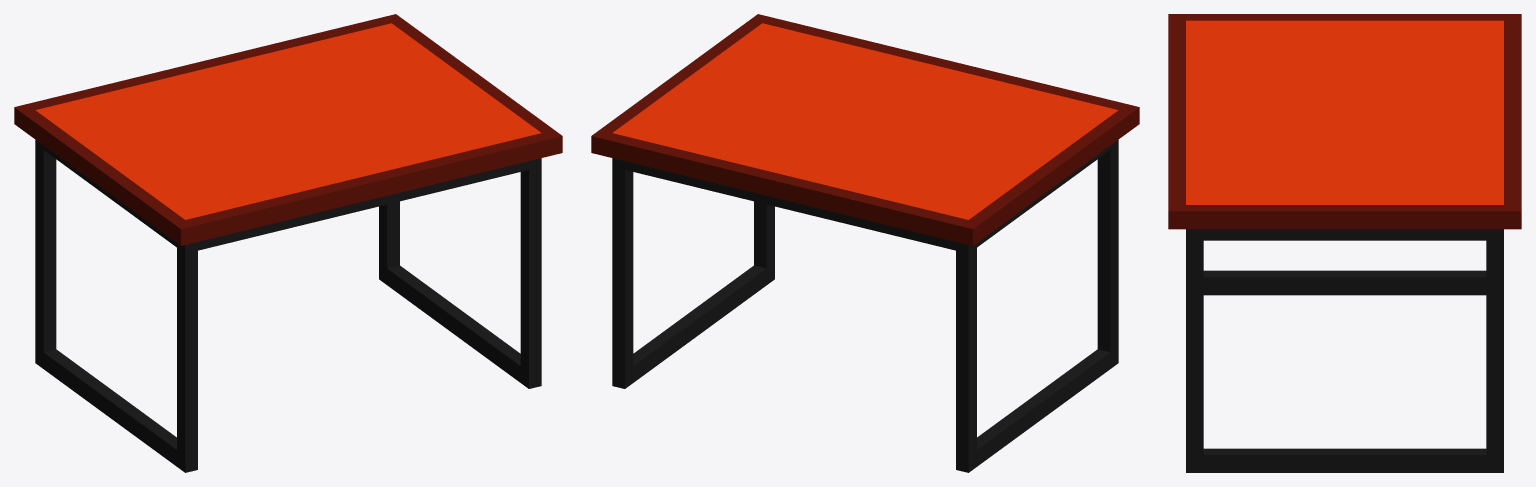
The model's file is Rectangular Dining Table.fbx.
3 views of the same model, side by side, from view 1: azimuth 30°, elevation 25°; view 2: azimuth 150°, elevation 25°; view 3: azimuth 270°, elevation 25° (orthographic). The views are drawn at different scales.
Parts seen in each view (by area): view 1: Rectangular dining table; view 2: Rectangular dining table; view 3: Rectangular dining table.
Part boxes in pixels (x1=…): Rectangular dining table: x1=14, y1=14, x2=562, y2=472; Rectangular dining table: x1=591, y1=14, x2=1139, y2=472; Rectangular dining table: x1=1168, y1=14, x2=1521, y2=472.
Bounding box in the file's own units: 1.19 × 0.7517 × 0.8983.
